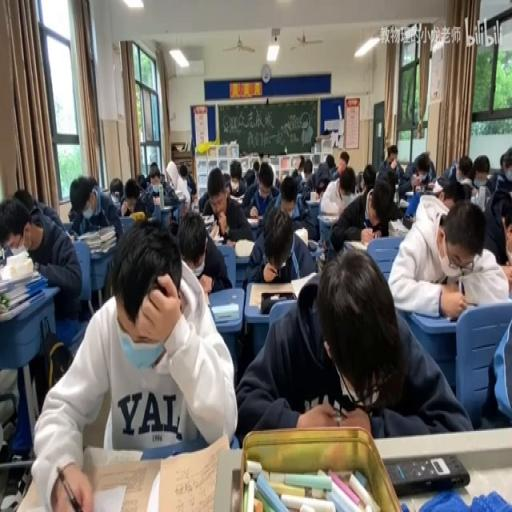calculator: (248, 282, 290, 310), (290, 270, 318, 297), (210, 300, 238, 322), (233, 236, 254, 256), (387, 218, 408, 236), (200, 213, 216, 235), (293, 225, 308, 243), (426, 180, 442, 194), (320, 213, 338, 222), (245, 214, 260, 224), (305, 196, 321, 205), (211, 232, 224, 243), (230, 194, 244, 204), (150, 182, 159, 195), (174, 189, 185, 199), (151, 195, 160, 206), (66, 233, 75, 243), (158, 204, 173, 210), (398, 198, 408, 206), (405, 190, 414, 198)
paper: (32, 222, 230, 509), (233, 244, 463, 440), (386, 196, 508, 314), (2, 192, 82, 324), (244, 206, 314, 289), (330, 175, 396, 253), (178, 208, 230, 296), (478, 302, 512, 426), (69, 172, 123, 243), (241, 160, 278, 228), (142, 161, 180, 213), (402, 150, 436, 200), (462, 155, 493, 206), (198, 166, 230, 212), (376, 142, 402, 191), (313, 151, 337, 192), (226, 156, 246, 195), (177, 162, 196, 201), (438, 181, 463, 209), (298, 158, 316, 193), (278, 184, 297, 216), (14, 188, 35, 212), (315, 240, 329, 274), (499, 151, 512, 183), (362, 162, 375, 192), (342, 224, 362, 242), (336, 150, 349, 176), (338, 175, 354, 196), (288, 168, 302, 190), (124, 186, 138, 205), (243, 166, 256, 186), (458, 166, 470, 184), (354, 171, 363, 192), (316, 181, 327, 196), (136, 174, 146, 189), (252, 160, 259, 174)
person: (384, 452, 470, 494), (308, 239, 318, 250), (414, 184, 422, 194)
